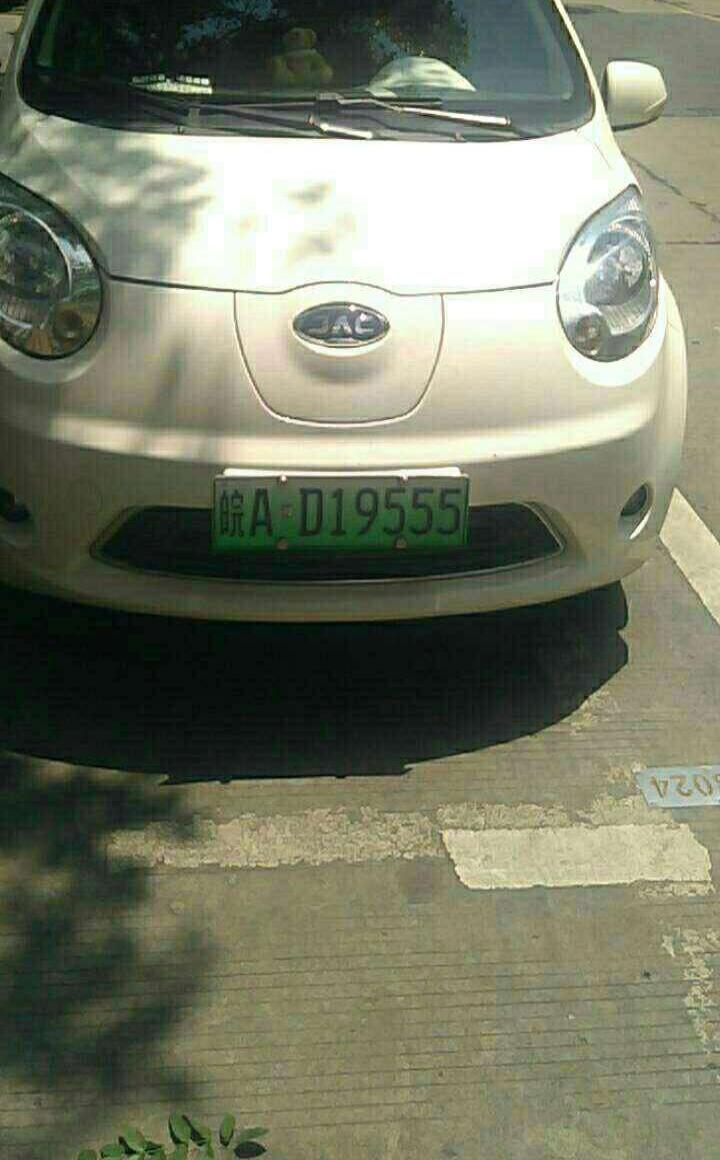car_id: (217, 481, 466, 551)
